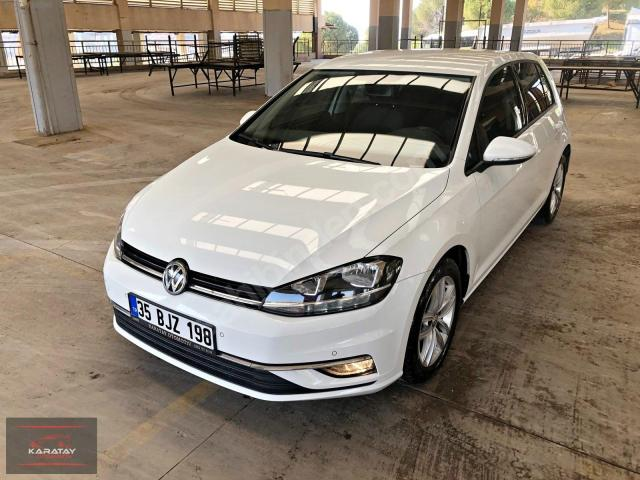plaka: (130, 294, 214, 350)
